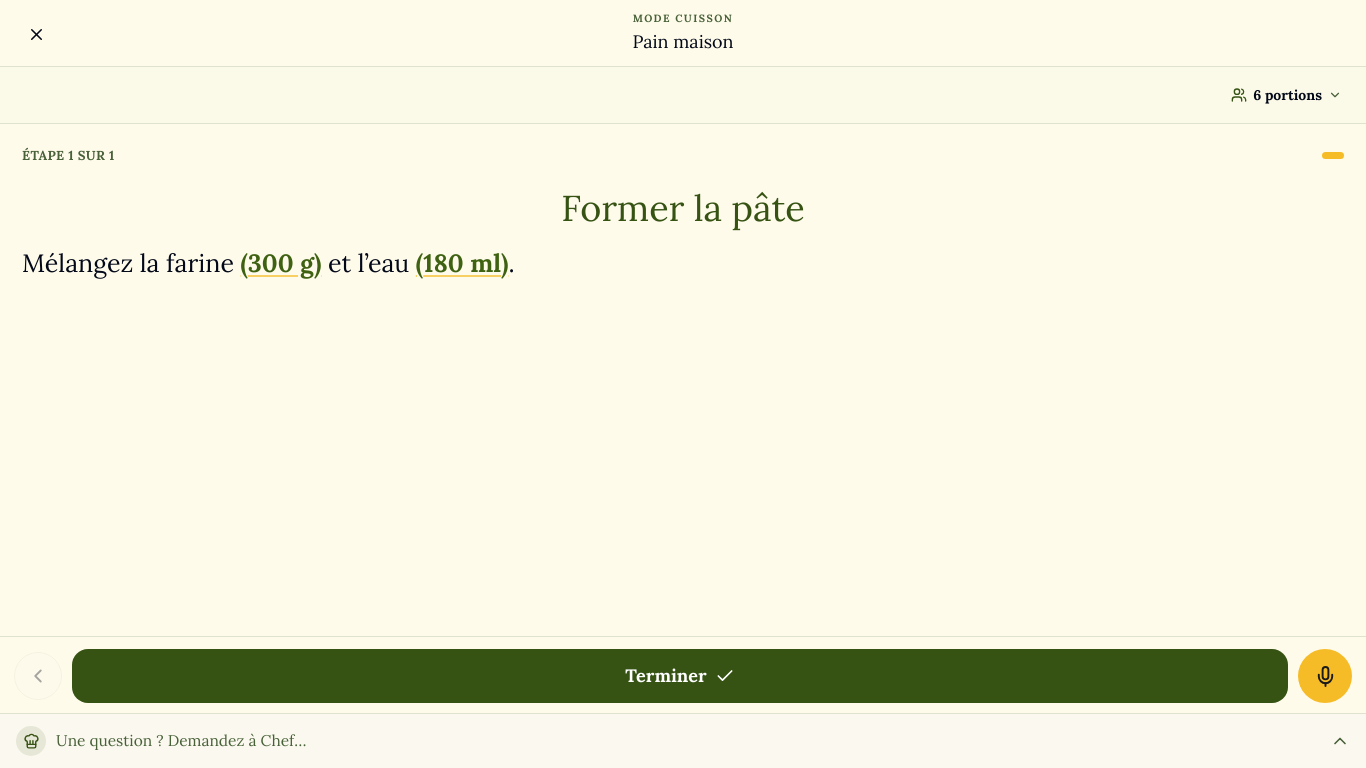
Scenario: CookingMode — quantités › reprend les portions choisies, recalcule les quantités et ouvre la liste complète
Check: the text "6 portions" is shown, box 1253,85 -> 1322,105
Check: the text "(300 g)" is shown, box 241,246 -> 322,278
Click the button with aria-label "Ajuster les quantités pour 6 portions" at (1287, 95), box 1221,73 -> 1352,117
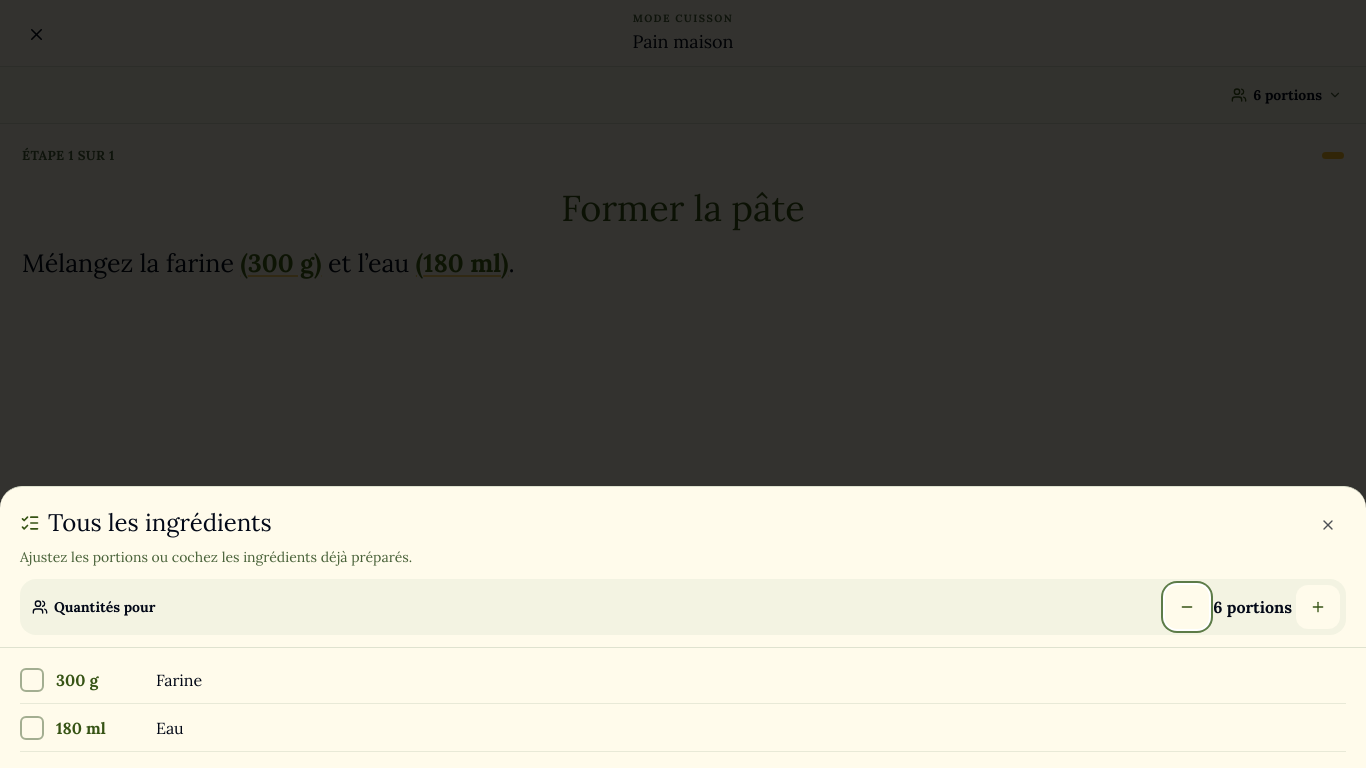
Check: the dialog "Tous les ingrédients" is shown, box 0,486 -> 1365,767
Click the button named "Augmenter les portions" at (1318, 607), box 1296,585 -> 1340,629
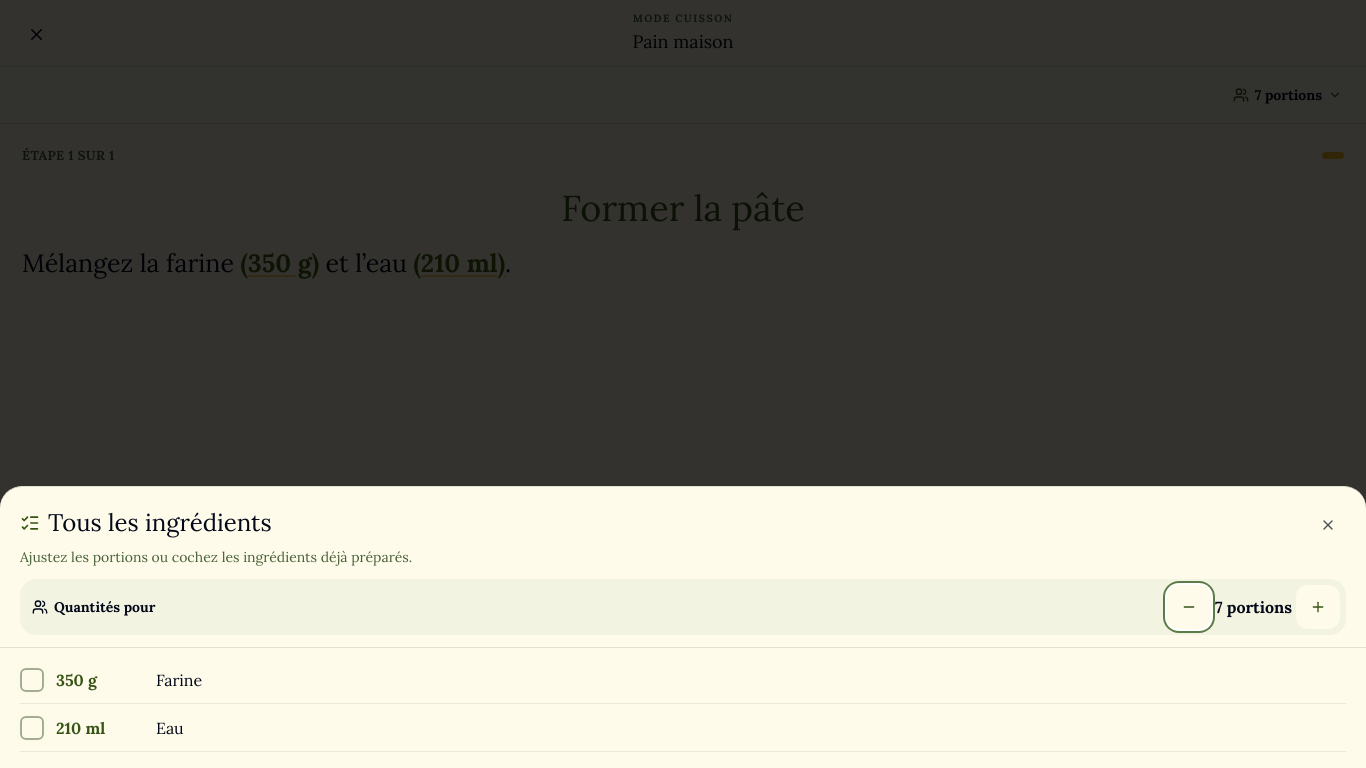
Check: the text "7 portions" is shown 2 times, box 1255,85 -> 1322,105; 1215,595 -> 1292,619
Check: the text "(350 g)" is shown, box 241,246 -> 319,278
Check: the text "350 g" is shown, box 56,670 -> 97,690
